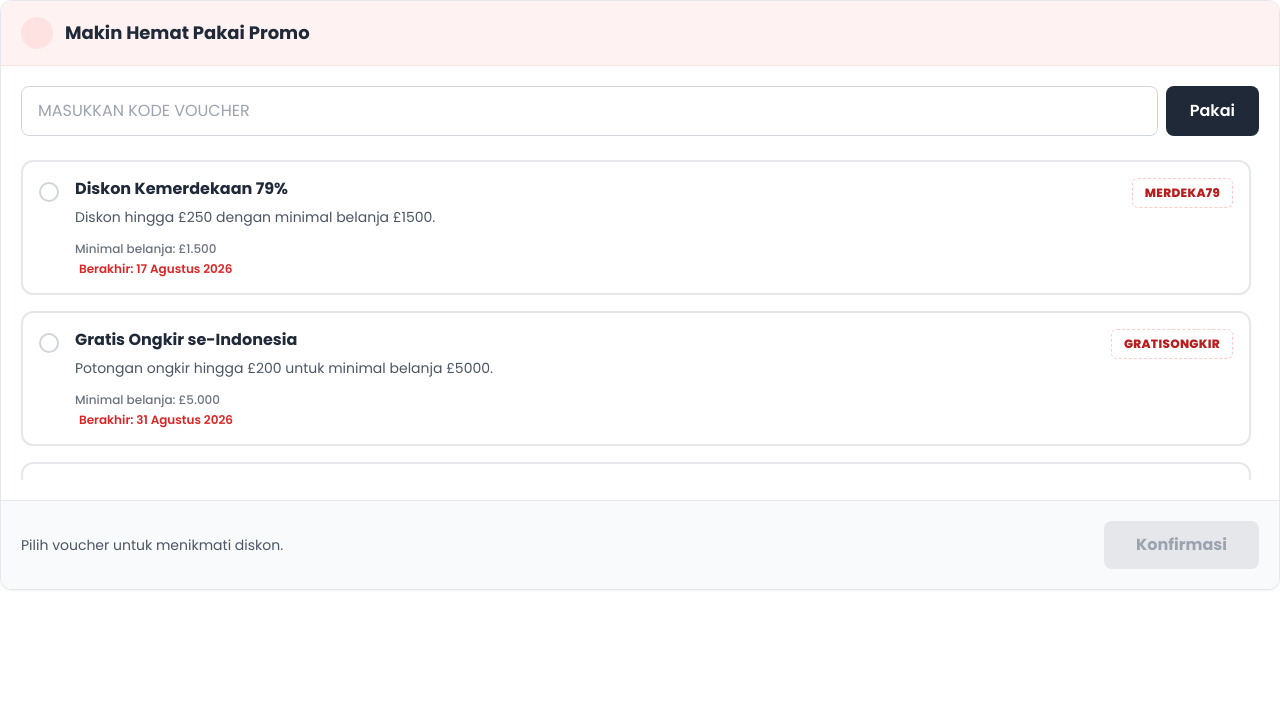
it: CheckoutVoucher › shows error for invalid voucher code
Type "INVALID" into the field with placeholder "Masukkan kode Voucher" at (589, 111), box [21,86,1158,136]
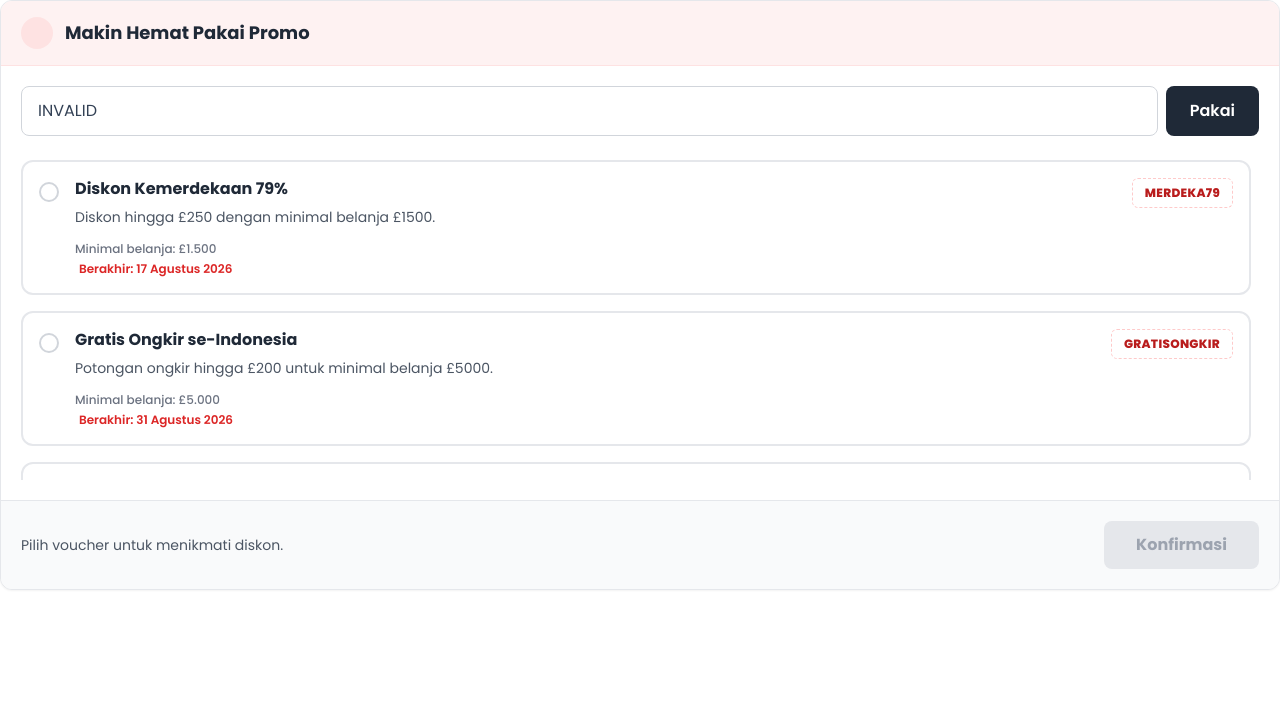
Click the button "Pakai" at (1212, 111), box [1166,86,1259,136]
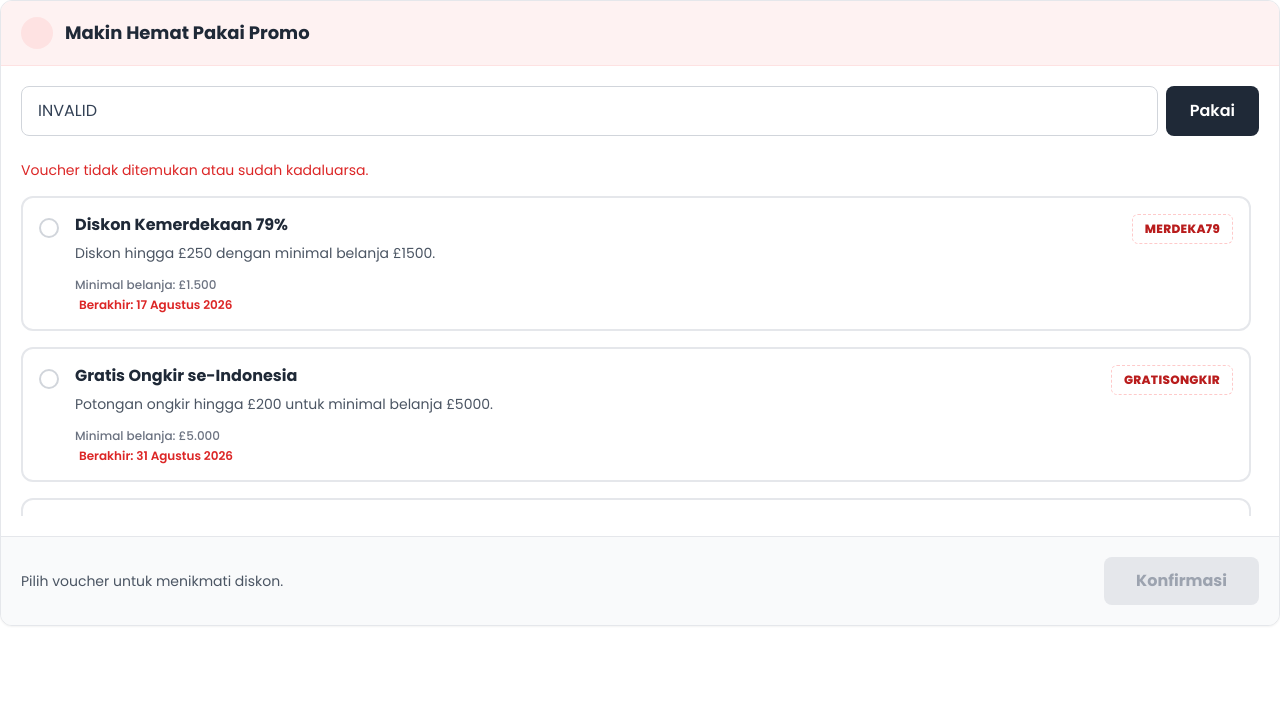
Expected: the text "Voucher tidak ditemukan atau sudah kadaluarsa." is shown, [21,160,368,180]
